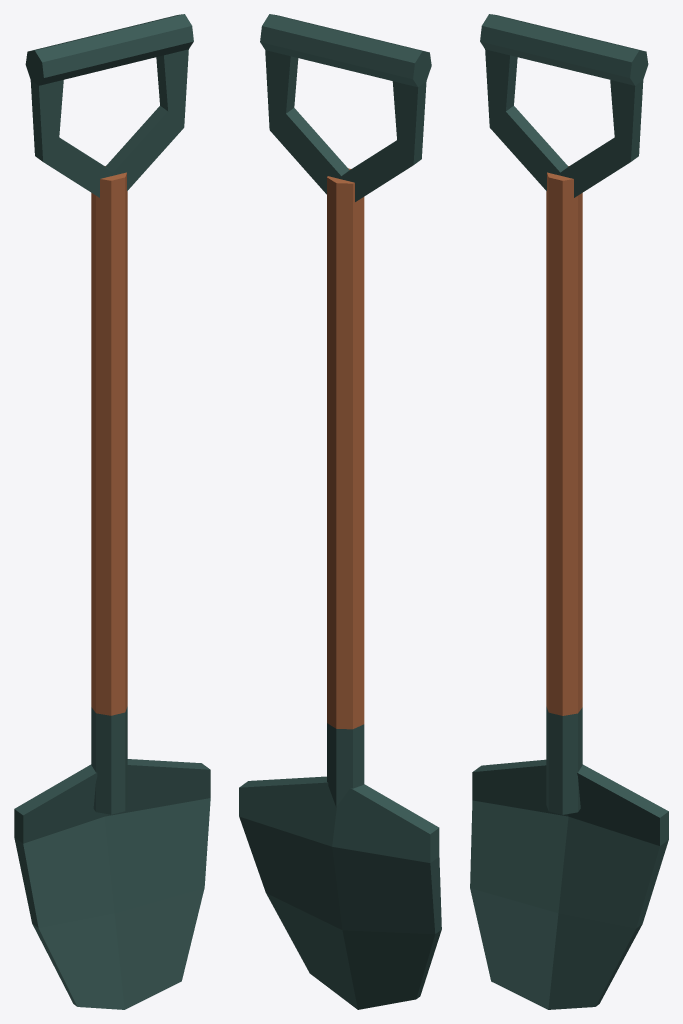
Rendered from shovel.fbx.
3 views of the same model, side by side, from view 1: azimuth 30°, elevation 25°; view 2: azimuth 150°, elevation 25°; view 3: azimuth 330°, elevation 25° (orthographic).
Parts seen in each view (by area): view 1: shovel; view 2: shovel; view 3: shovel.
Boxes of the visible parts, <box> form: shovel: <box>14,14,210,1009</box>; shovel: <box>239,14,441,1009</box>; shovel: <box>470,14,668,1009</box>.
Bounding box in the file's own units: 40.38 × 199 × 12.79.
